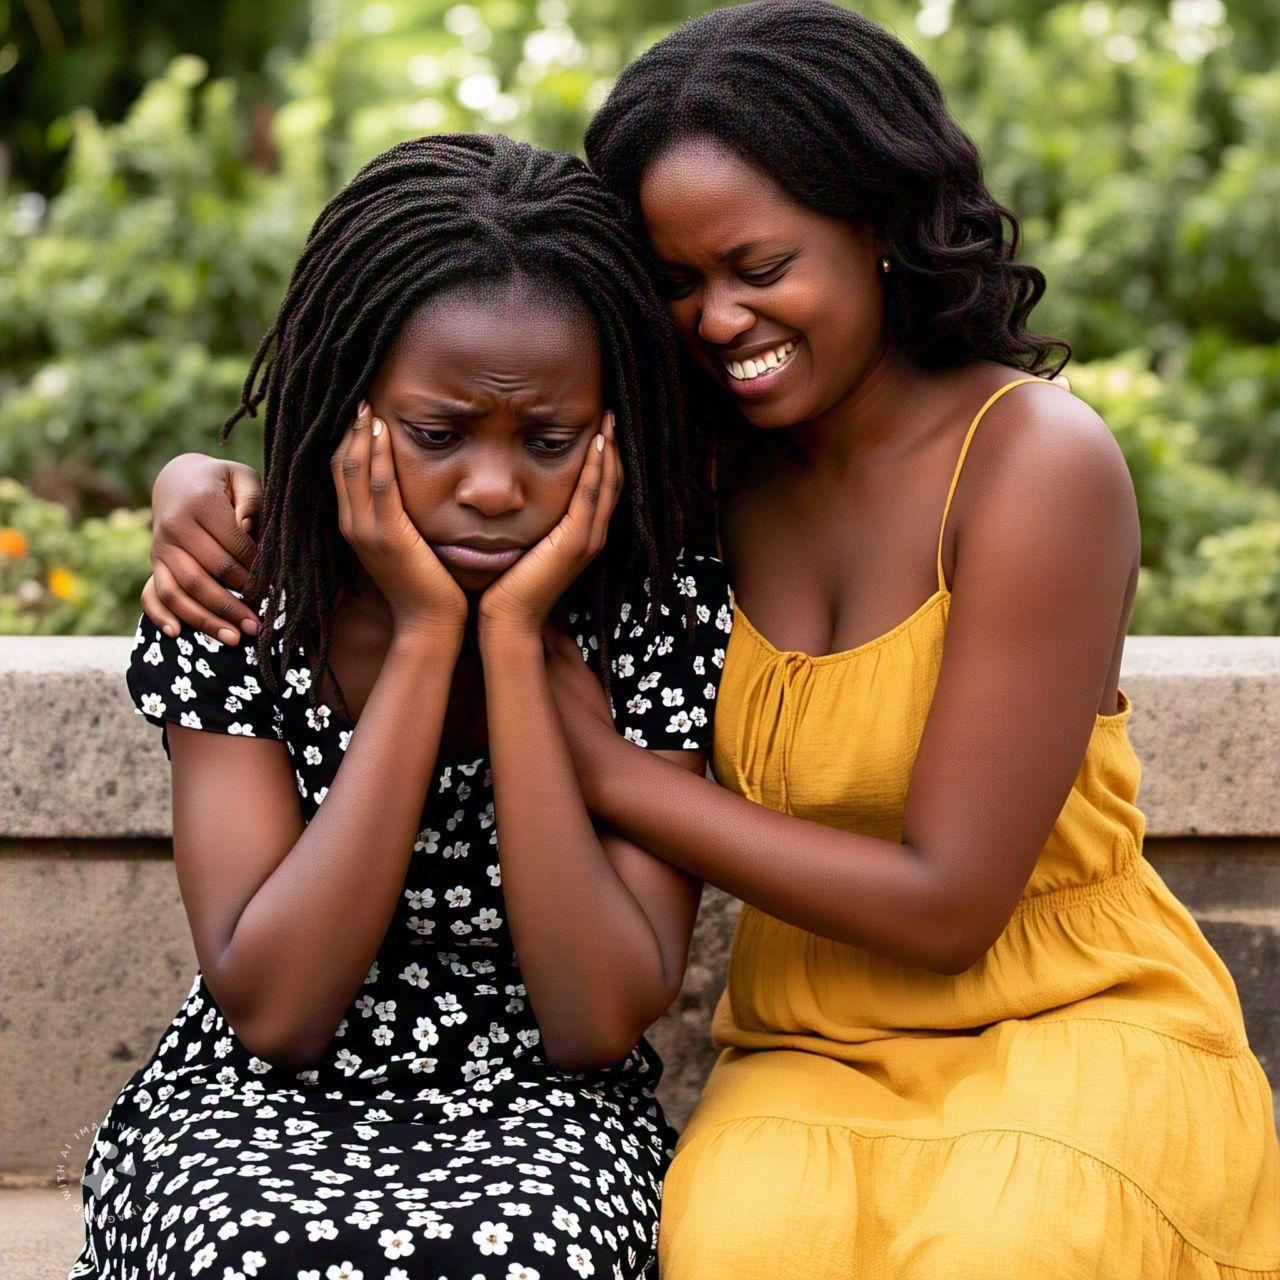feliz: (642, 105, 903, 418)
triste: (362, 258, 614, 602)
